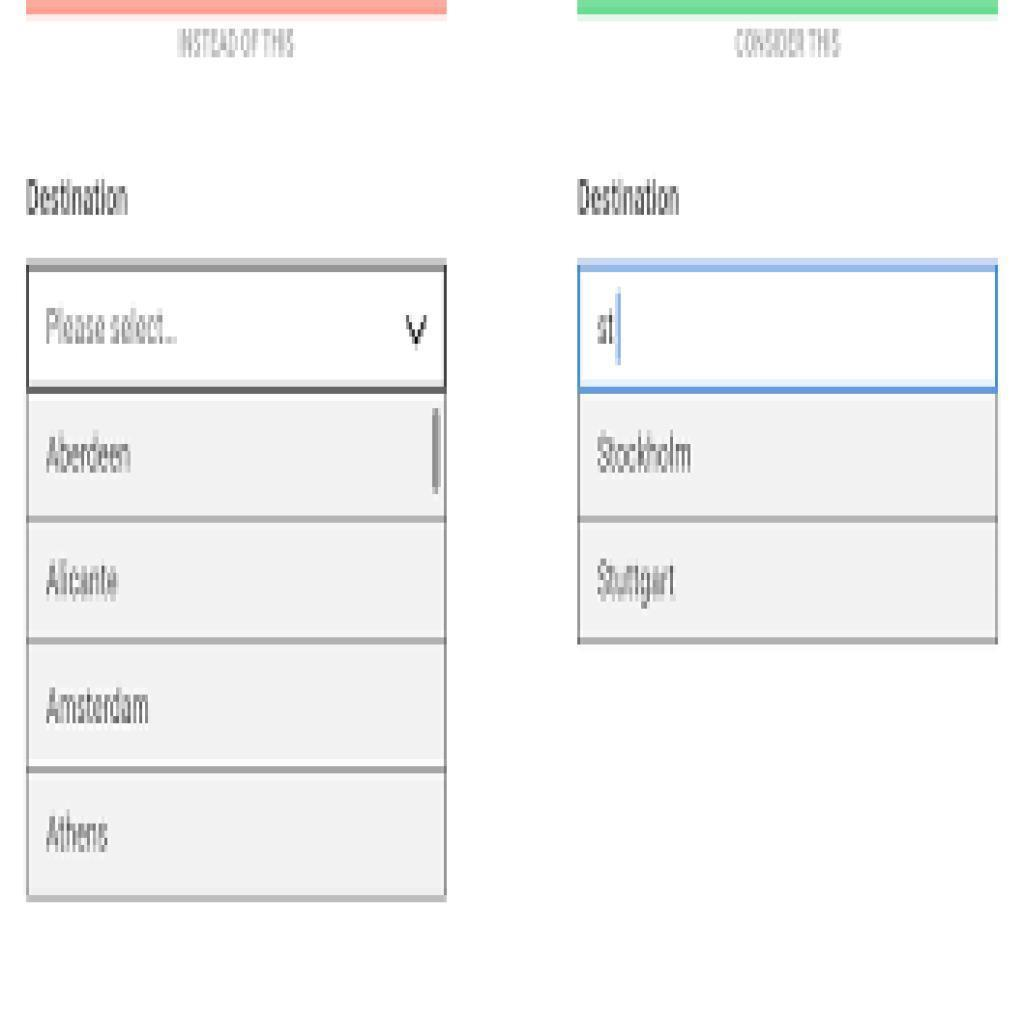dropdown: (26, 261, 444, 387)
input: (575, 264, 996, 388)
